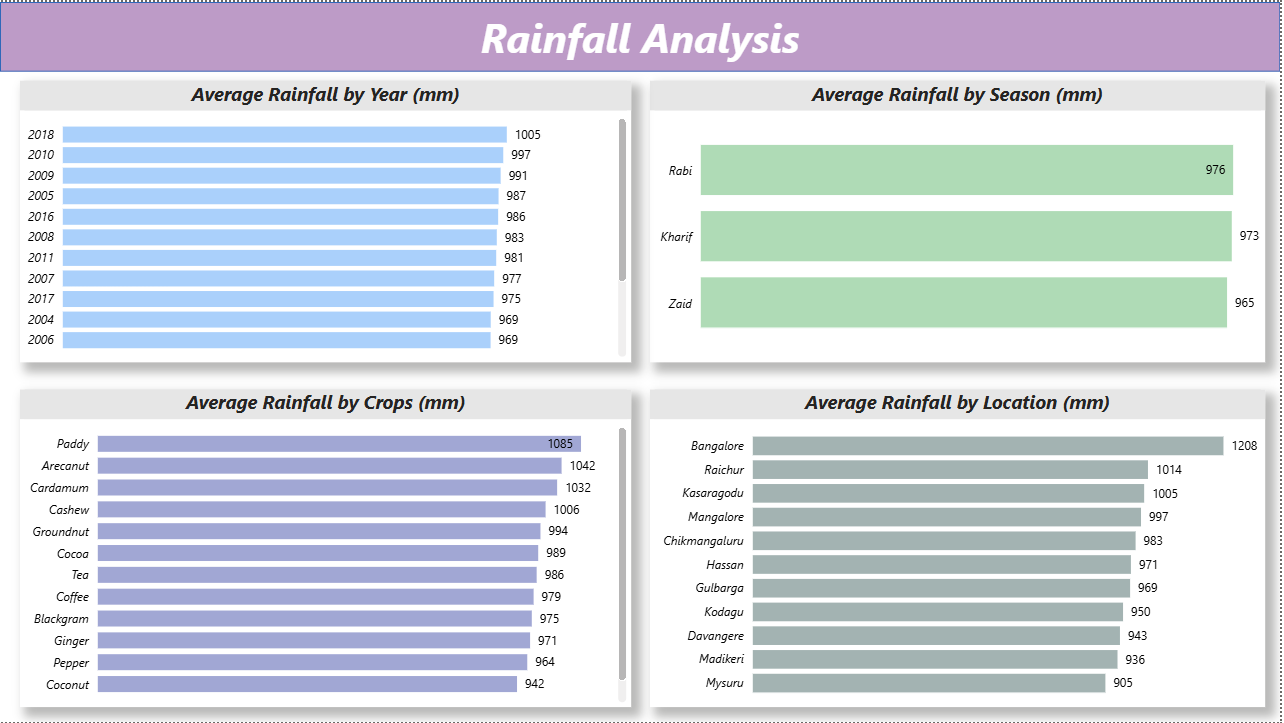

Layout of this report page (visuals, bound fields, positions):
{"tool":"powerbi","page":{"name":"Rainfall Analysis","canvas":[1280,720],"ordinal":0},"visuals":[{"type":"shape","box":[0,0,1280.3,69.7],"z":0},{"type":"barChart","title":"Average Rainfall by Crops","fields":{"Y":["Avg(AGRICULTURE.RAINFALL)"],"Category":["AGRICULTURE.CROPS"]},"box":[19.6,387.6,611.4,317.9],"z":1000},{"type":"barChart","title":"Average Rainfall by Season","fields":{"Y":["Avg(AGRICULTURE.RAINFALL)"],"Category":["AGRICULTURE.SEASON"]},"box":[650.5,78.3,615.1,281.3],"z":2000},{"type":"barChart","title":"Average Rainfall by Year","fields":{"Category":["AGRICULTURE.YEAR"],"Y":["Avg(AGRICULTURE.RAINFALL)"]},"box":[19.6,78.3,611.4,281.3],"z":2001},{"type":"barChart","title":"Average Rainfall by Location","fields":{"Y":["Avg(AGRICULTURE.RAINFALL)"],"Category":["AGRICULTURE.LOCATION"]},"box":[650.5,387.6,615.1,317.9],"z":2002}]}

Visuals, with their boxes in screenshot pixels (x1, y1, x2, y2), scaled from the page's 1280x720 canvas onto the 1284x723 screenshot:
shape: left=0, top=0, right=1283, bottom=70
"Average Rainfall by Crops" barChart: left=20, top=389, right=633, bottom=708
"Average Rainfall by Season" barChart: left=653, top=79, right=1270, bottom=361
"Average Rainfall by Year" barChart: left=20, top=79, right=633, bottom=361
"Average Rainfall by Location" barChart: left=653, top=389, right=1270, bottom=708
